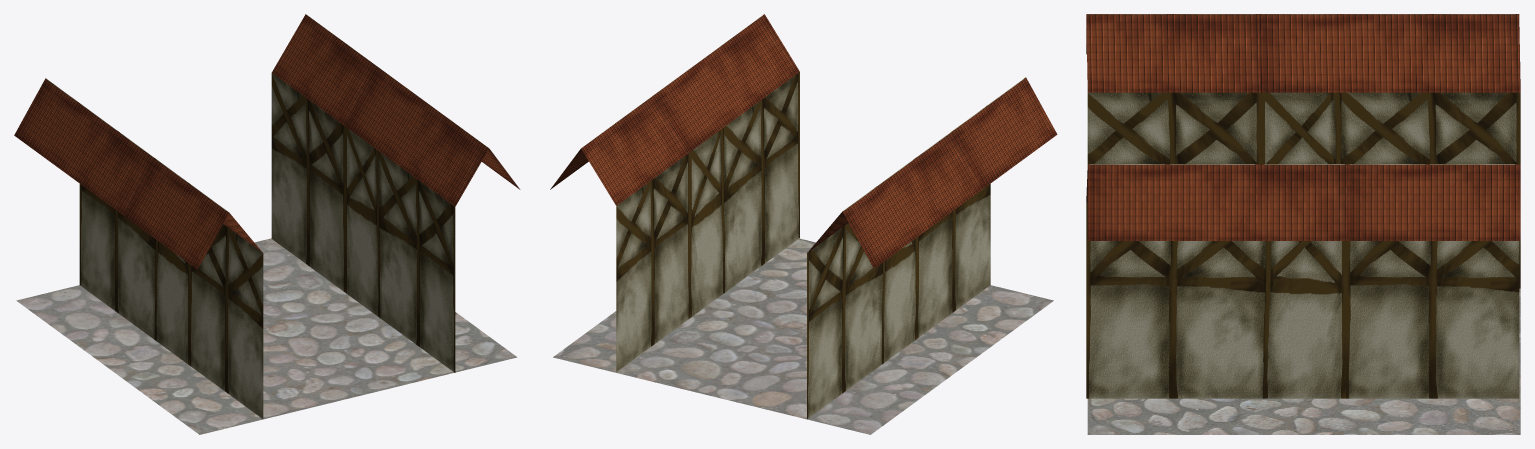
The model's file is 3-5_Corridor_NoFace_v1.fbx.
3 renders of one model, left to right at view 1: azimuth 30°, elevation 25°; view 2: azimuth 150°, elevation 25°; view 3: azimuth 270°, elevation 25°, orthographic. The views are drawn at different scales.
Visible parts, largest first — view 1: Corridor_NoFace; view 2: Corridor_NoFace; view 3: Corridor_NoFace.
Boxes of the visible parts, box(x1,y1,x2,y2) form: Corridor_NoFace: box(14, 14, 520, 434); Corridor_NoFace: box(550, 14, 1057, 434); Corridor_NoFace: box(1086, 14, 1520, 434).
Size of the model in its own units: 102 by 64.88 by 100.
2 materials, 2 textured.
